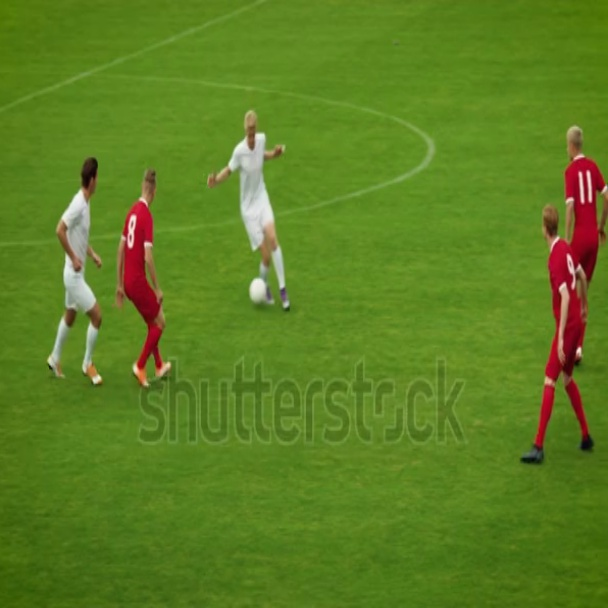ball: (252, 274, 270, 310)
